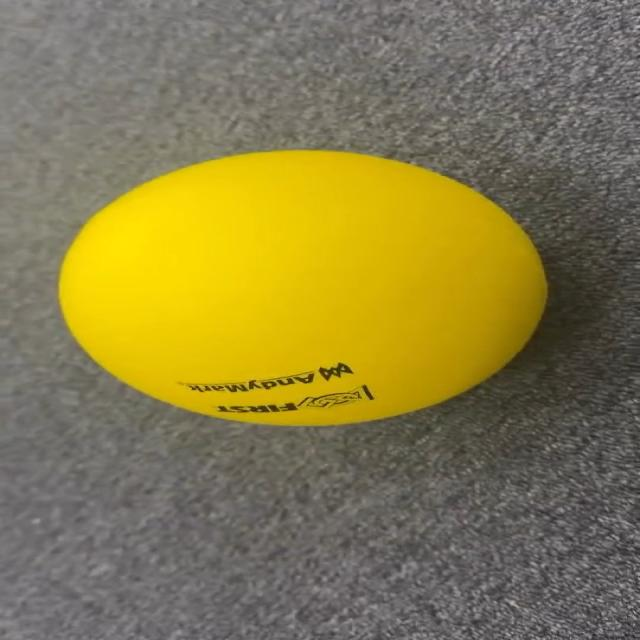Fuels: (59, 154, 546, 421)
